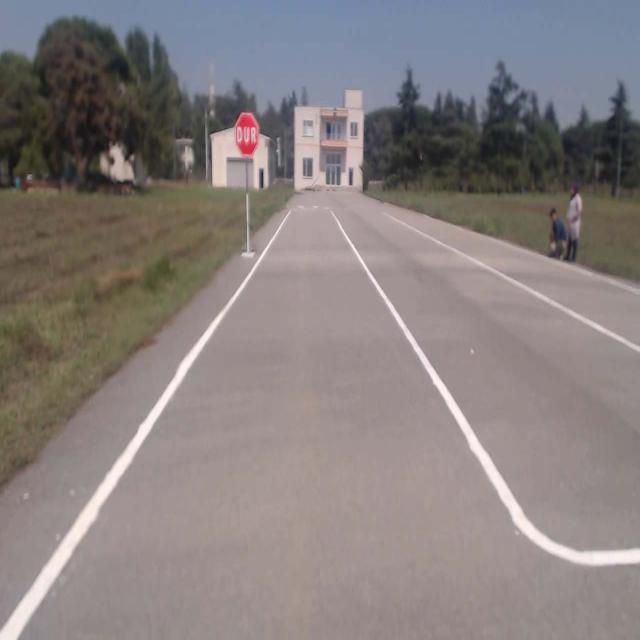dur: (235, 112, 259, 156)
